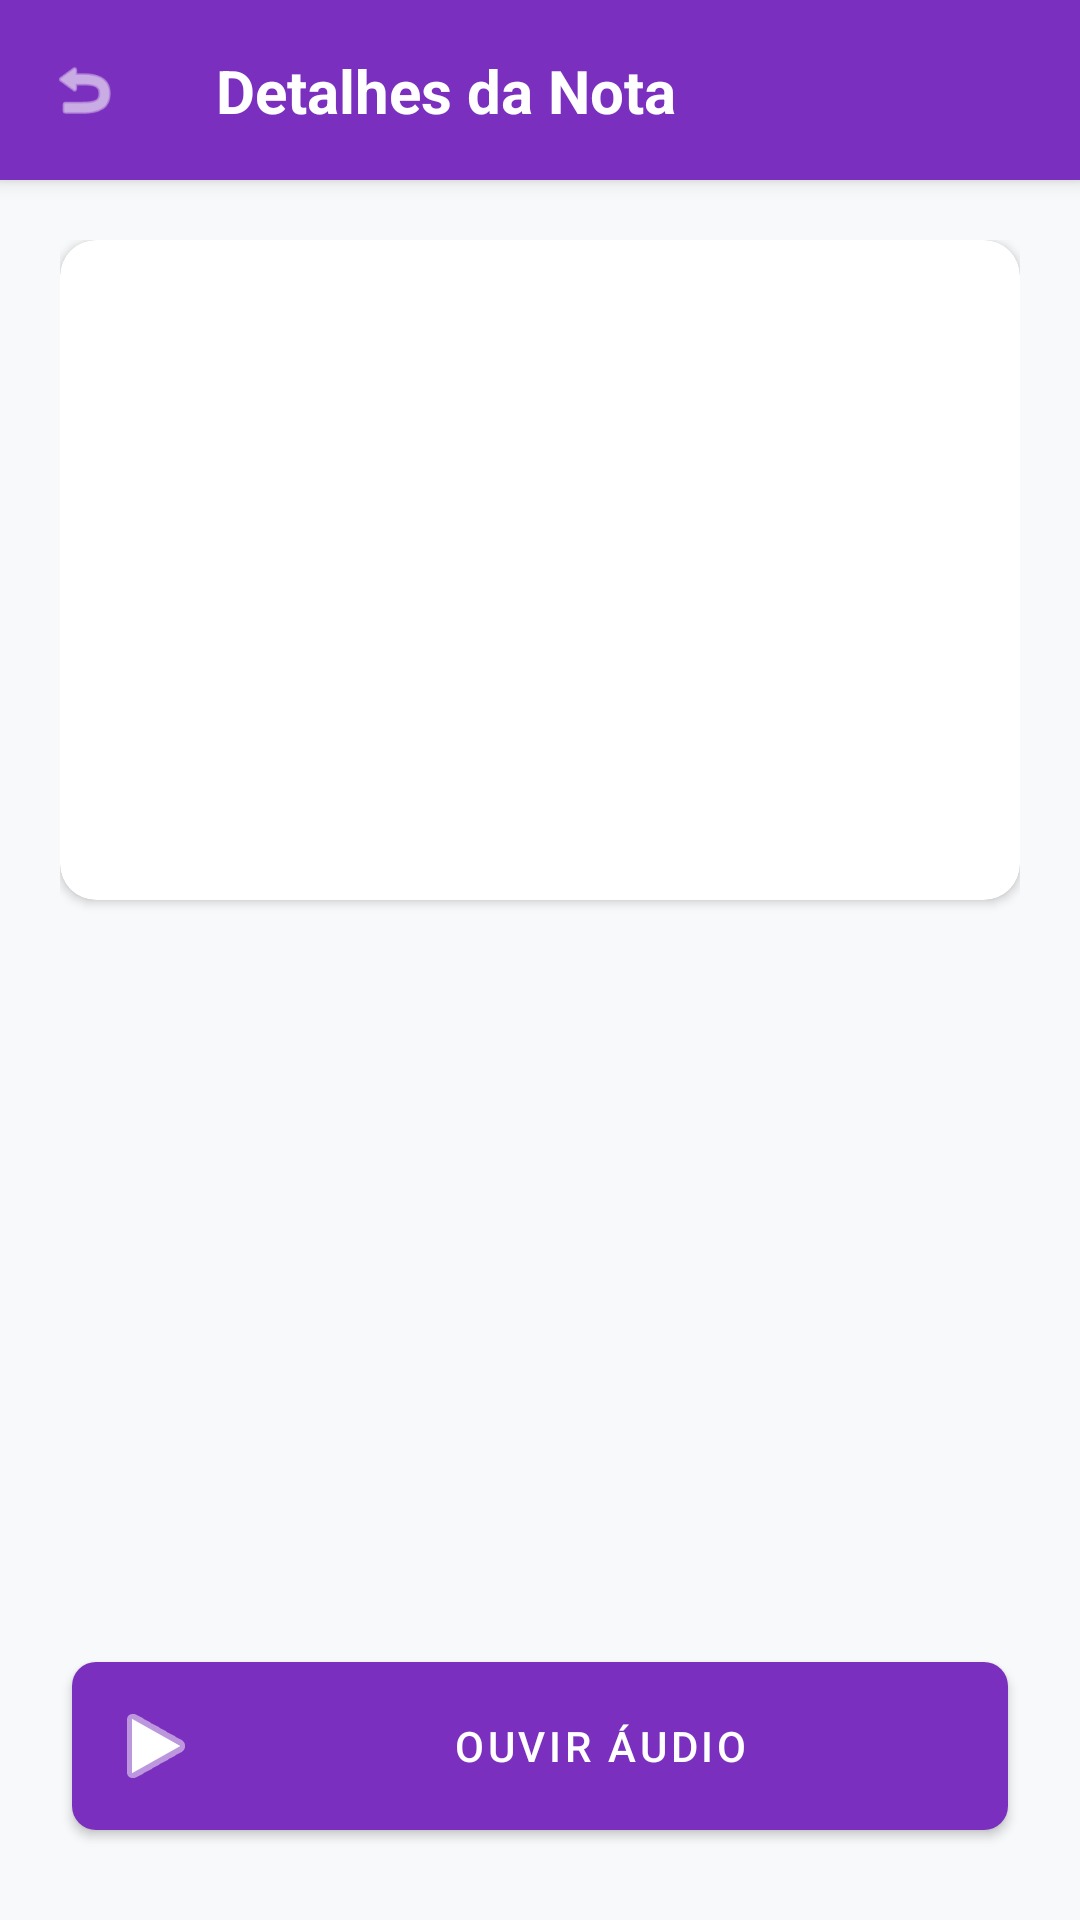

Locate icon controls on the screen. Image size 1080×1920, boxes as (x1, y1, x2, y2).
revert: (59, 67, 111, 114)
